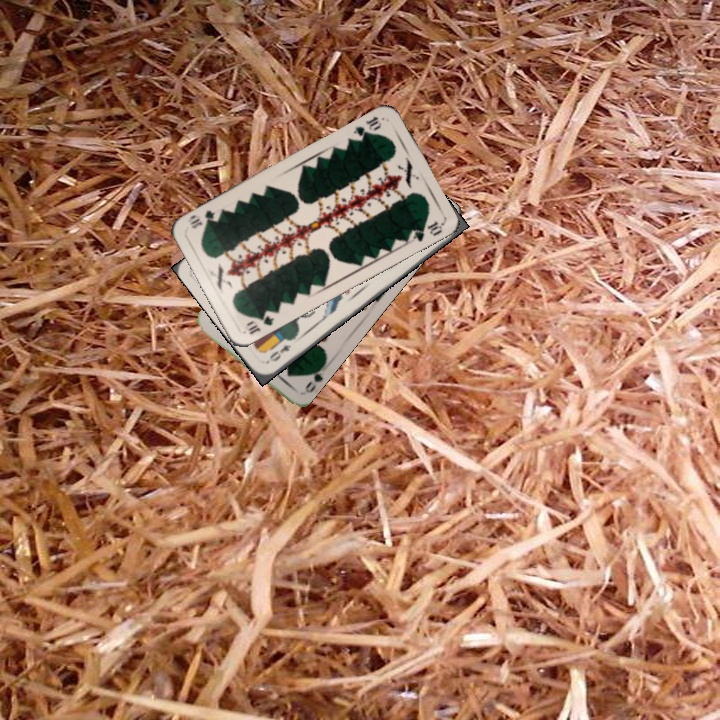EO: (263, 340, 294, 365)
G10: (349, 112, 384, 144), (244, 310, 277, 337)
GO: (301, 360, 328, 396)
